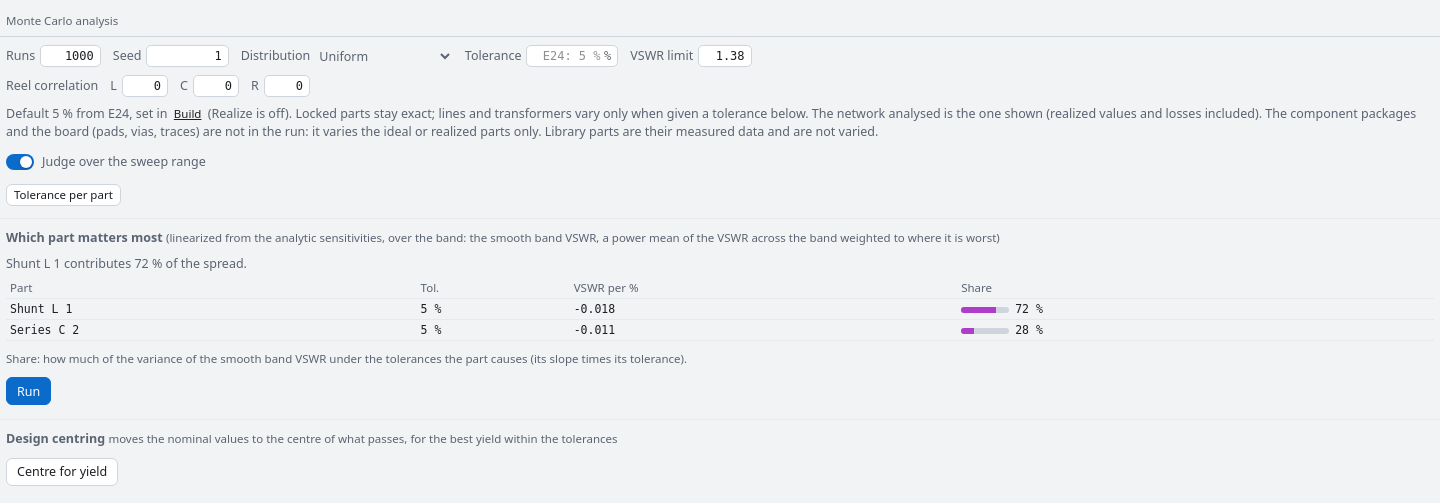
Test: tolerance fields › shows the default tolerance as an empty field with the series as placeholder; 0 is exact
Type "0" into the field named "Default tolerance in percent" at (564, 56), box [528,48,600,64]
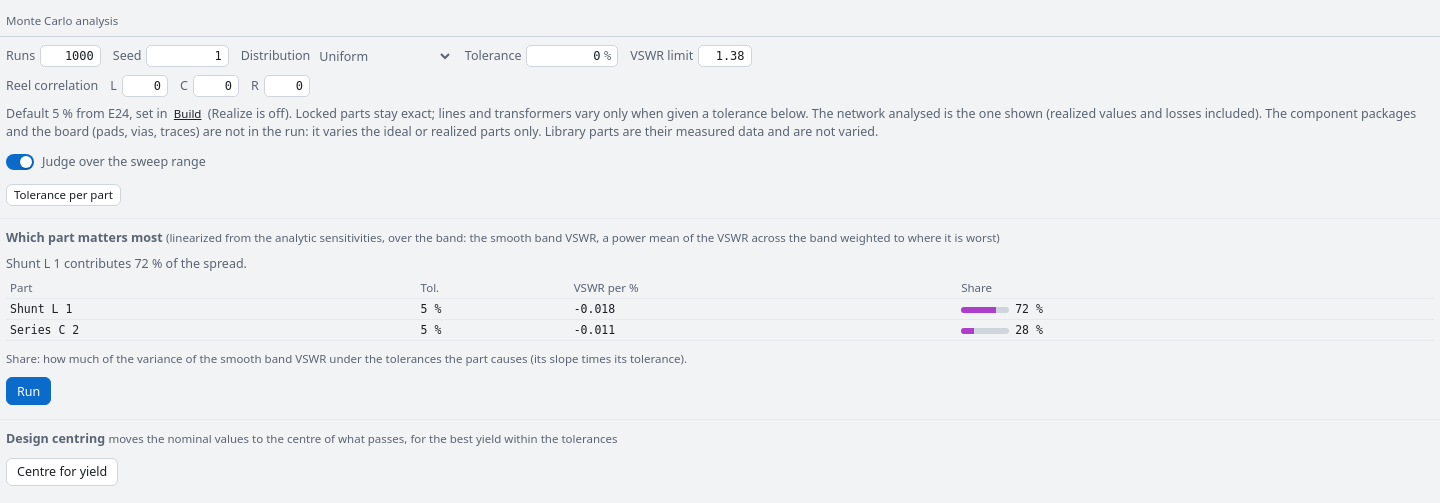
Press Enter in the field named "Default tolerance in percent", box [528,48,600,64]
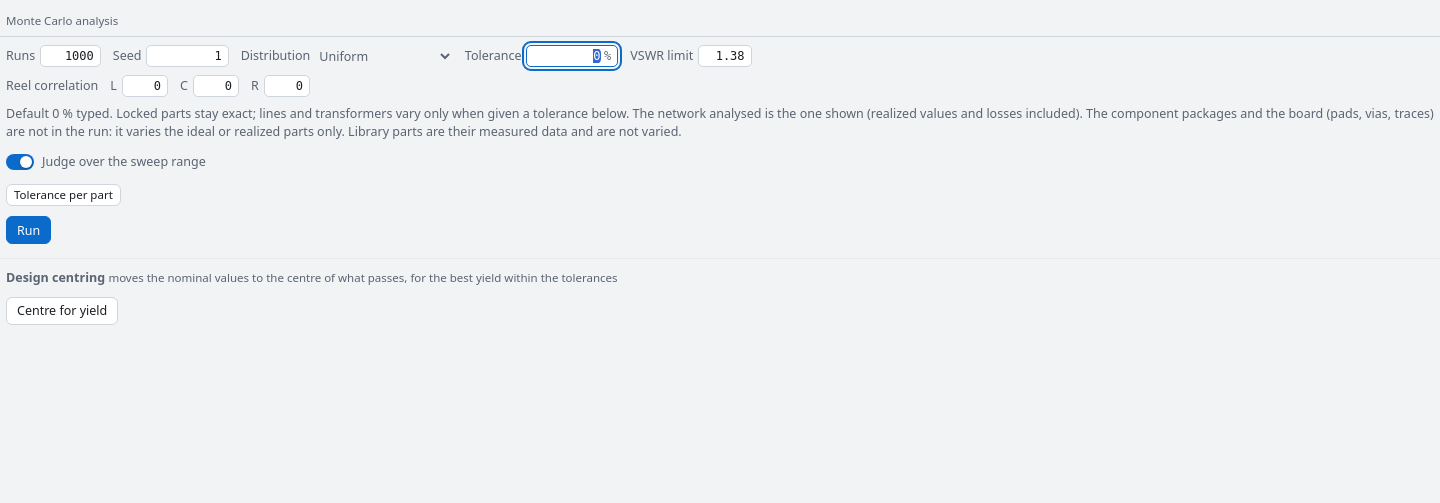
Clear the field named "Default tolerance in percent" at (564, 56), box [528,48,600,64]
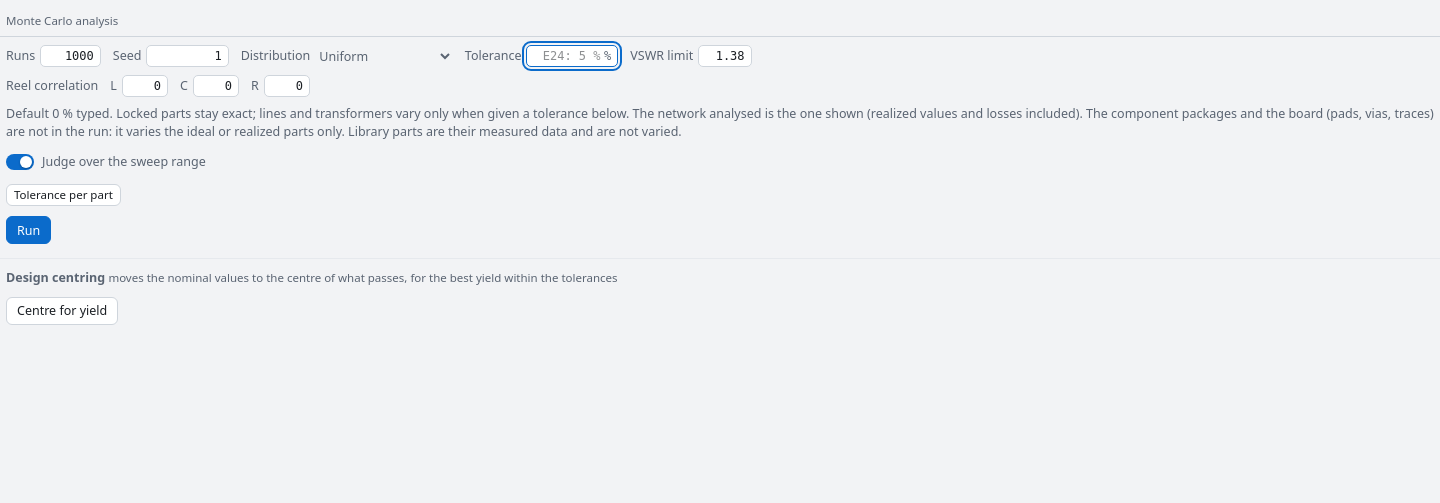
Press Enter in the field named "Default tolerance in percent", box [528,48,600,64]
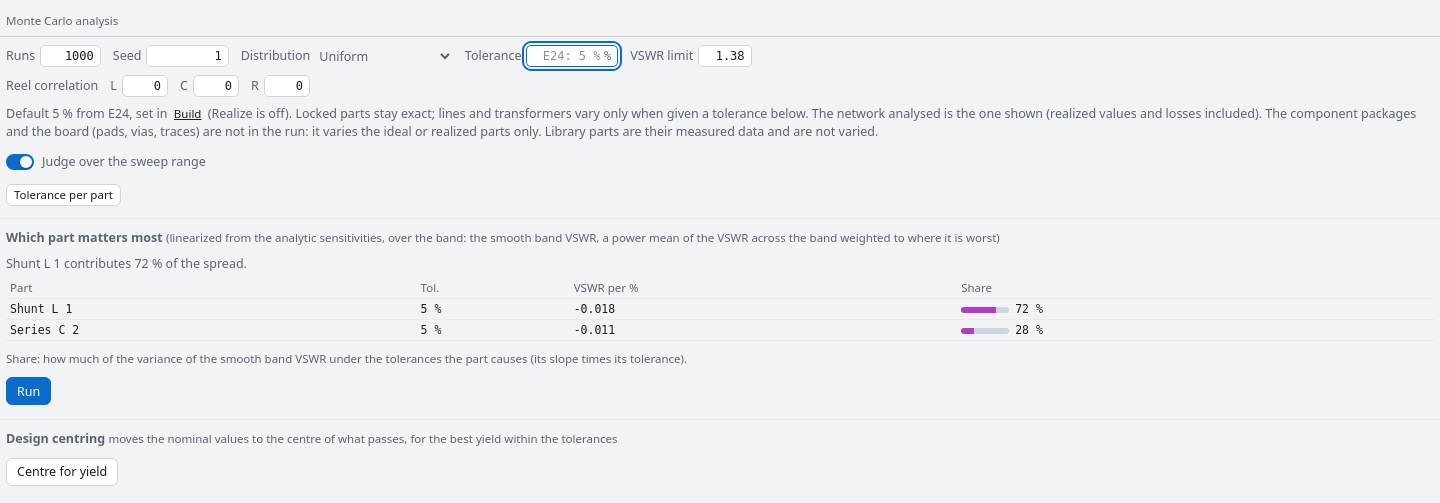
Expected: the text "Default 5 % from E24, set in Build (Realize is off)" is shown, [0,101,1439,144]
